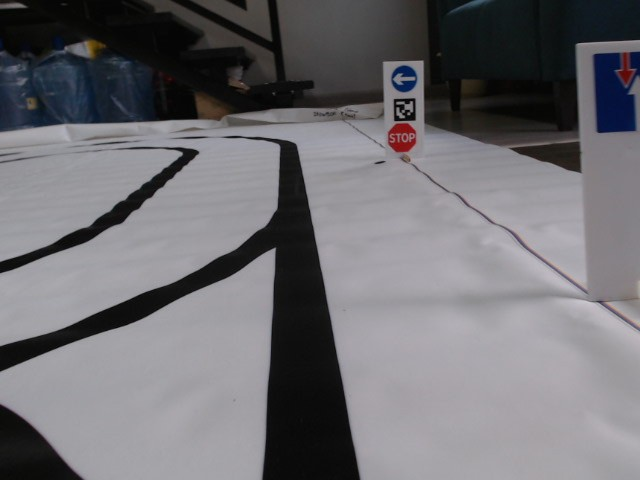Stop: (388, 122, 416, 152)
priority_movement: (591, 49, 640, 134)
